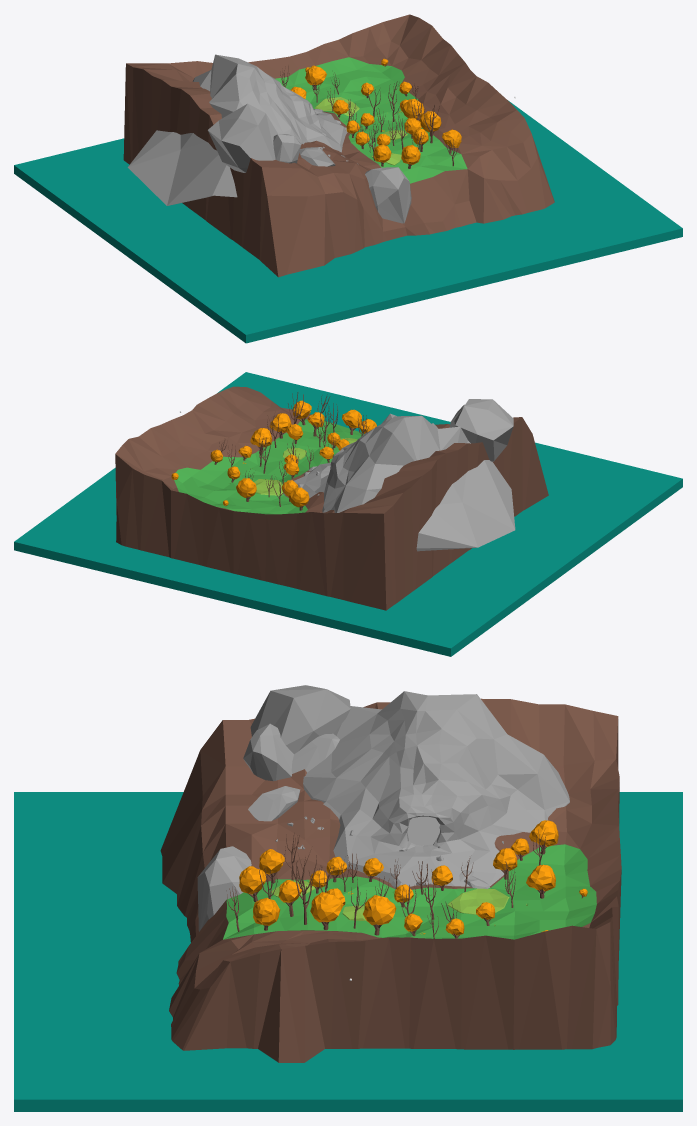
File: cave_scene.glb
The picture shows the model from 3 angles, top to bottom: view 1: azimuth 30°, elevation 25°; view 2: azimuth 150°, elevation 25°; view 3: azimuth 270°, elevation 25°; orthographic projection. The views are drawn at different scales.
Visible parts, largest first — view 1: Node; view 2: Node; view 3: Node, wall.
Boxes of the visible parts, <box> form: Node: <box>14,14,682,343</box>; Node: <box>14,372,682,656</box>; Node: <box>14,685,682,1111</box>; wall: <box>407,815,440,845</box>.
Size of what is drawn, in the model's own units: 348 by 115 by 320.
